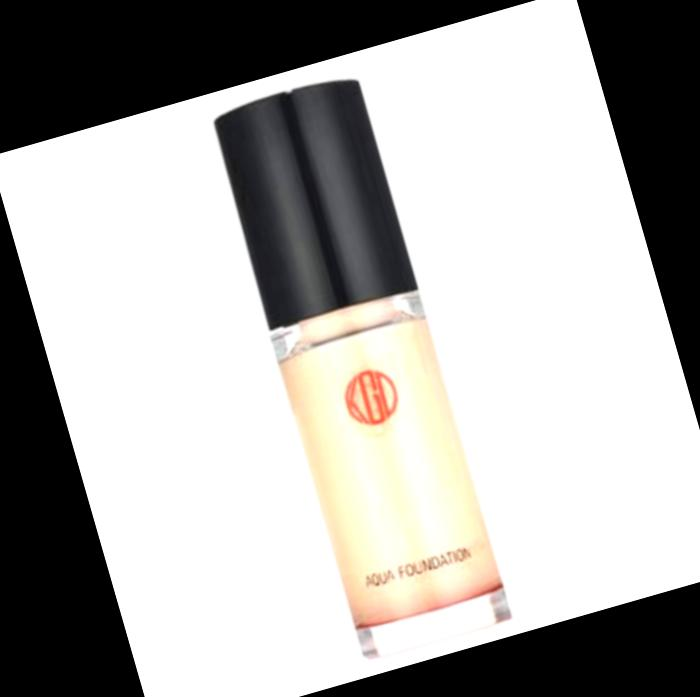cosmetic: (204, 70, 519, 666)
